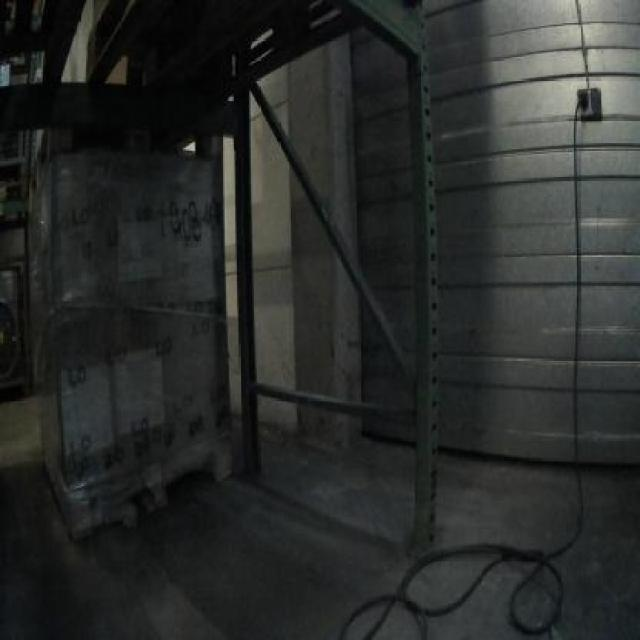pallets: (31, 135, 228, 535)
